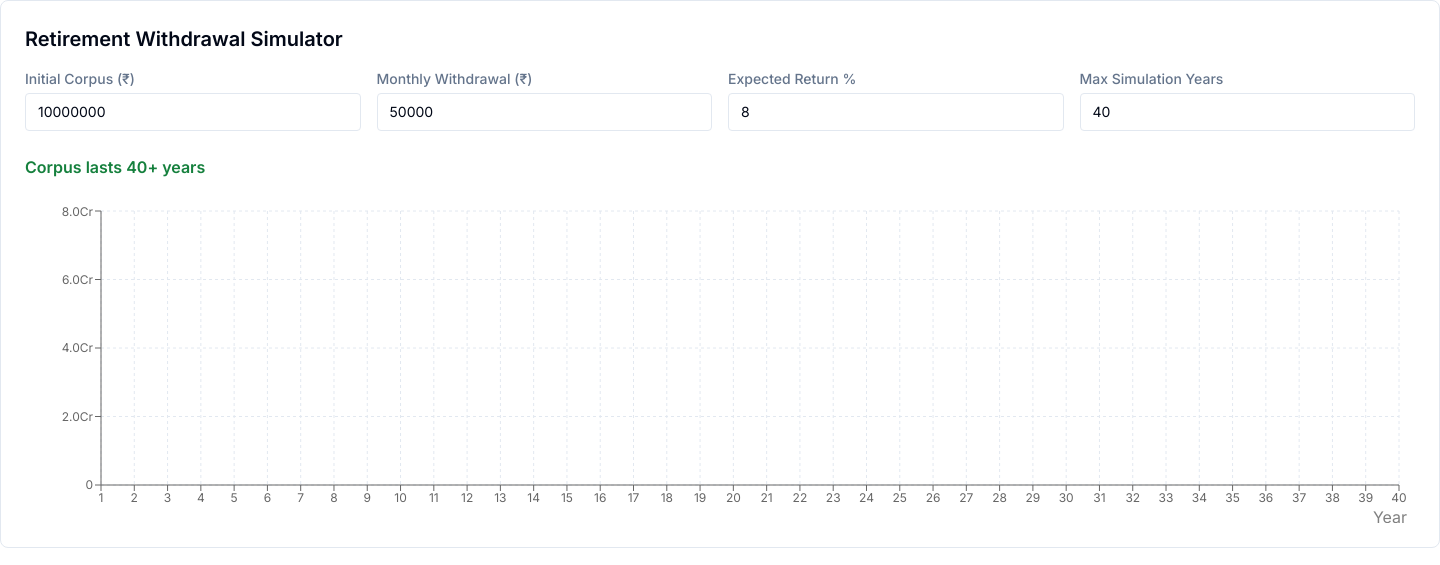
Test case: RetirementWithdrawal › shows exhaustion message when corpus runs out
Set a very high withdrawal (500K/month on 1 crore) to ensure exhaustion
Replace the text in the number field labelled "Monthly Withdrawal (₹)" with "500000" at (544, 112), box x1=376 y1=93 x2=712 y2=131
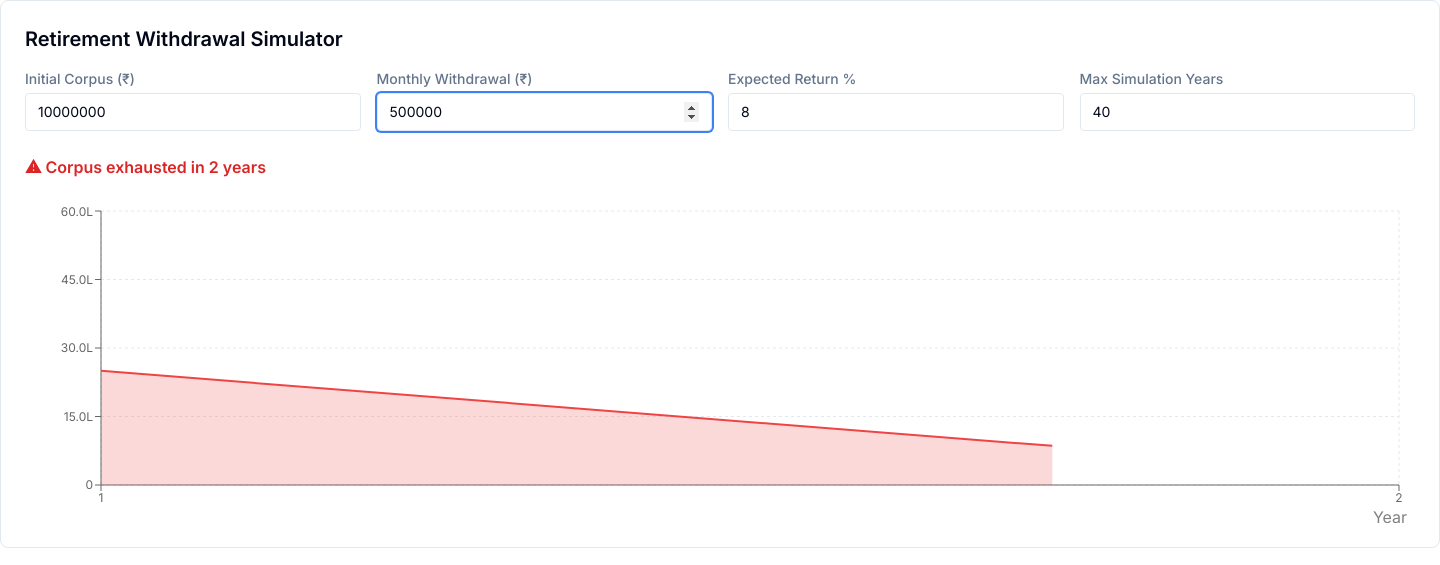
Check: the text "⚠ Corpus exhausted in 2 years" is shown, box x1=25 y1=157 x2=266 y2=177
Check: the text with test id "exhaustion-warning" shows "exhausted", box x1=25 y1=157 x2=209 y2=177
